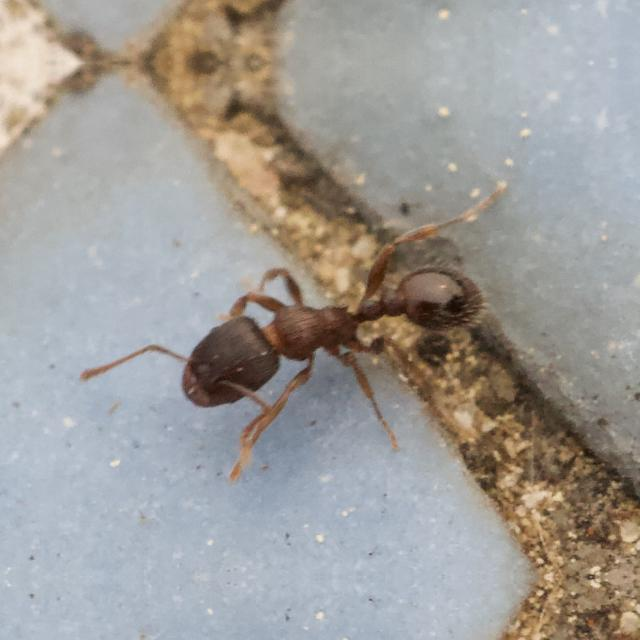Tetramorium: (167, 242, 497, 426)
